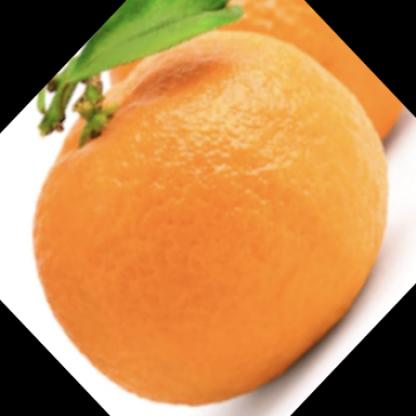fresh: (36, 25, 390, 407)
